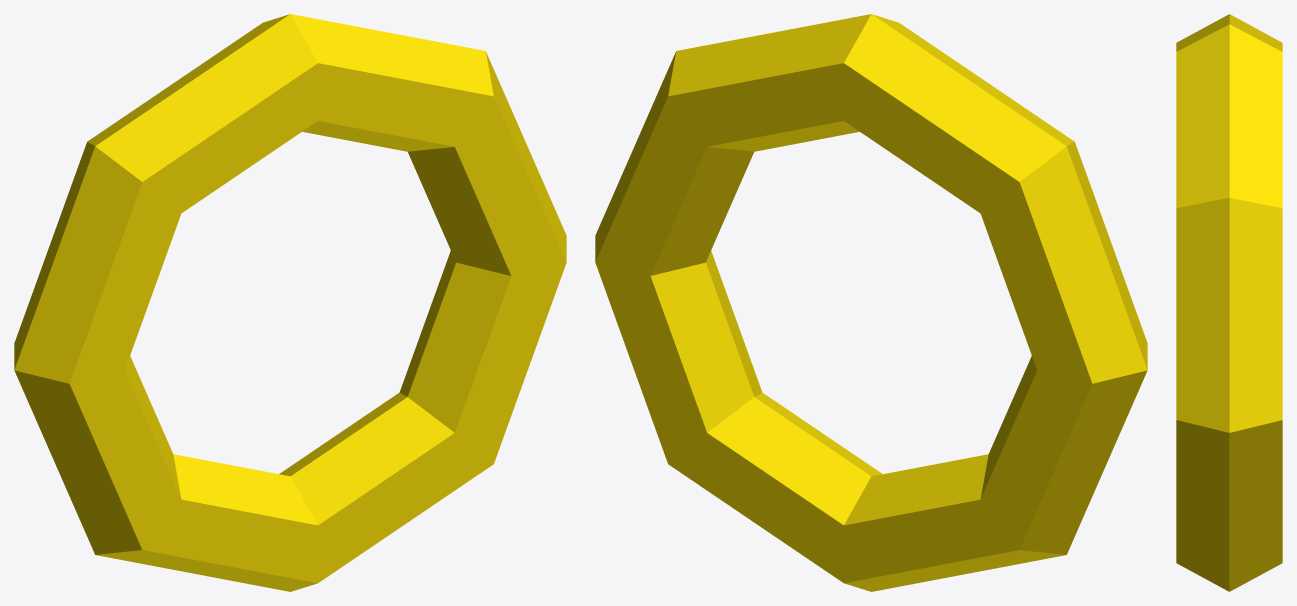
File: Tonus.fbx
3 views of the same model, side by side, from view 1: azimuth 30°, elevation 25°; view 2: azimuth 150°, elevation 25°; view 3: azimuth 270°, elevation 25° (orthographic). The views are drawn at different scales.
Visible parts, largest first — view 1: Torus; view 2: Torus; view 3: Torus.
Part boxes in pixels (<box>): Torus: <box>14,14,566,591</box>; Torus: <box>595,14,1147,591</box>; Torus: <box>1176,14,1282,591</box>.
Size of what is drawn, in the model's own units: 250 by 250 by 43.3.
